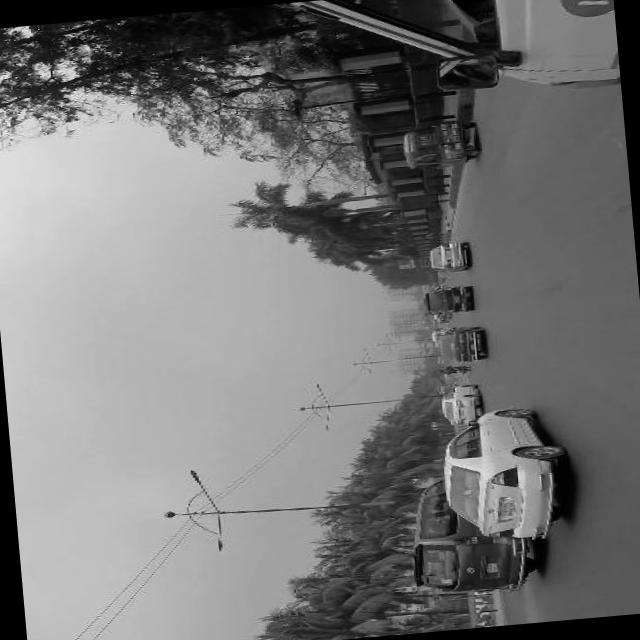car: (430, 404, 574, 545), (433, 321, 491, 365), (432, 380, 484, 428), (426, 238, 472, 272)
motorcycle: (394, 112, 490, 172), (440, 358, 470, 376)
truck: (282, 0, 620, 121), (405, 467, 545, 597), (416, 278, 482, 316)
